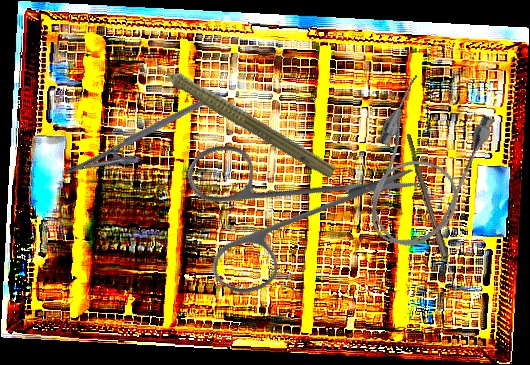Cannula: (343, 70, 501, 262)
Handpiece: (135, 44, 342, 183)
Iris Scissors: (146, 69, 423, 344)
Needle Holder: (63, 97, 217, 195)
Pusher: (231, 114, 343, 184)
Surgical Spoon: (402, 133, 465, 305)
